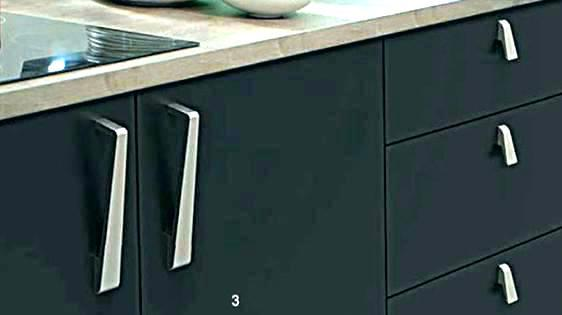cabinet_door: (141, 84, 381, 315), (4, 118, 134, 308), (398, 114, 558, 230), (388, 34, 562, 102), (400, 246, 562, 312)
handle: (146, 98, 212, 270), (82, 119, 134, 294), (493, 262, 525, 310), (490, 123, 520, 167), (492, 18, 518, 62)
